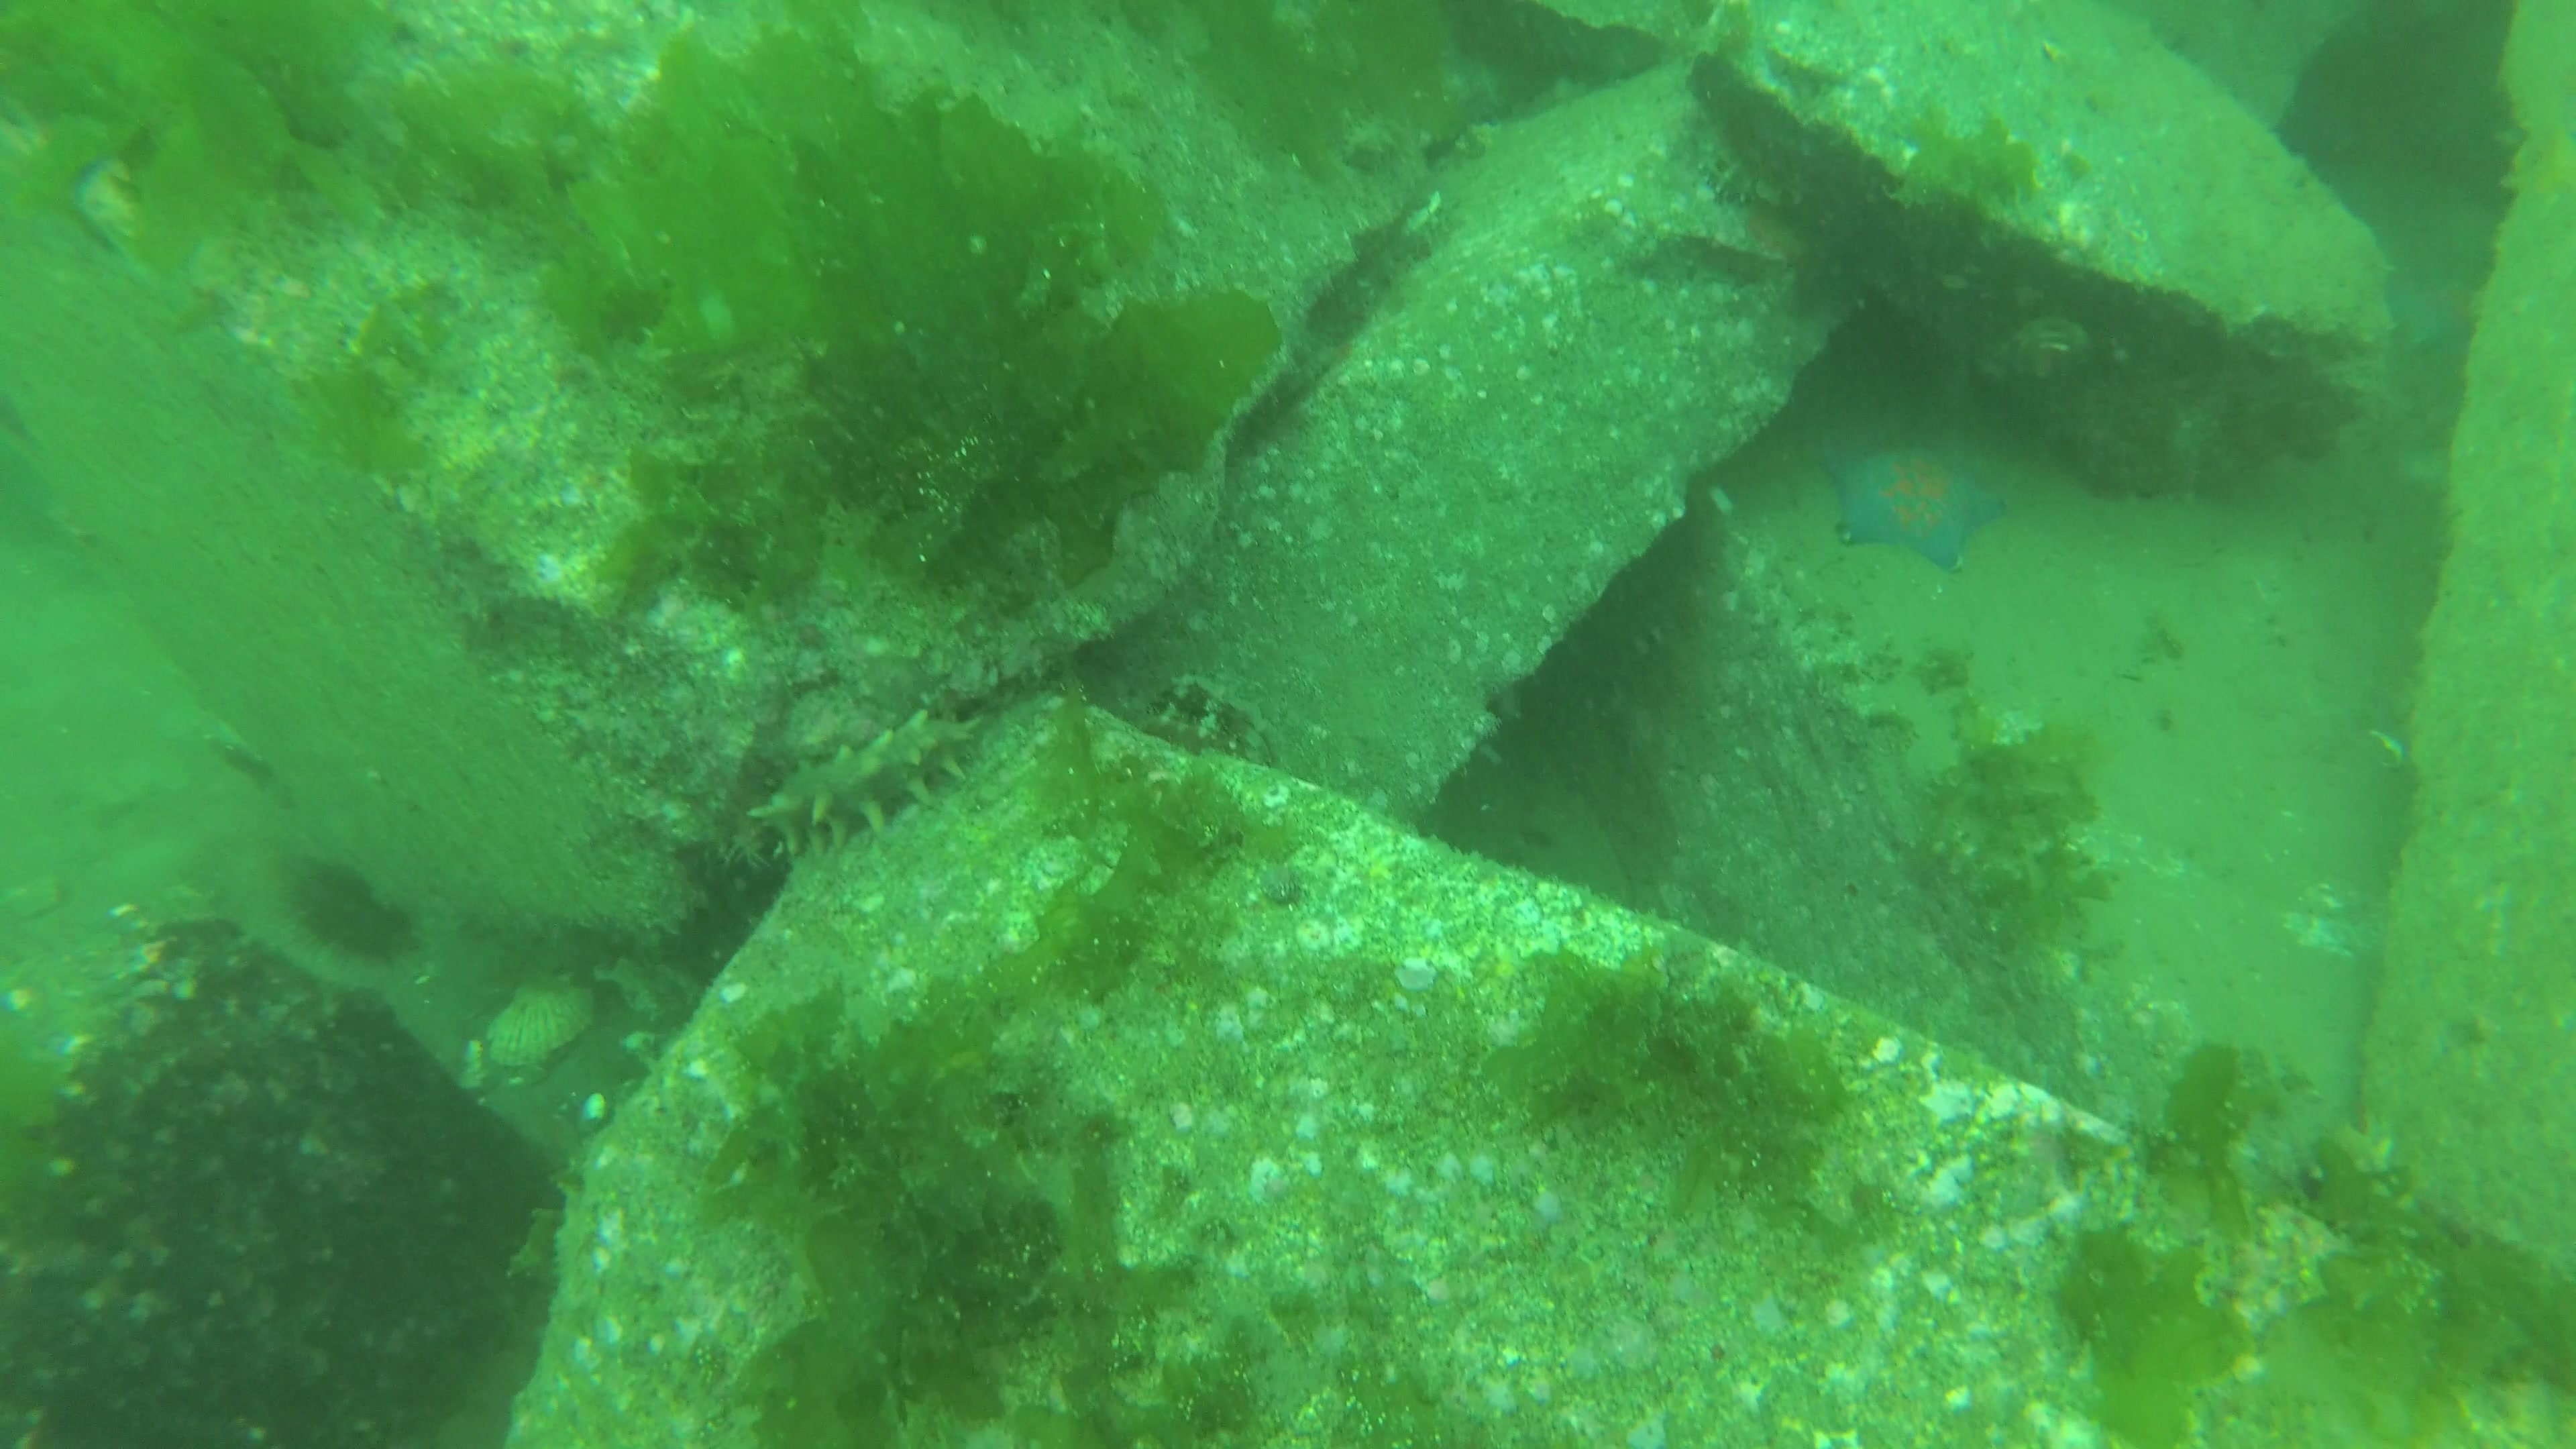echinus: (287, 853, 419, 964)
holothurian: (748, 708, 985, 862), (2314, 1111, 2427, 1238)
scallop: (483, 980, 598, 1067)
starfish: (1813, 444, 2015, 571), (2385, 267, 2479, 356)
